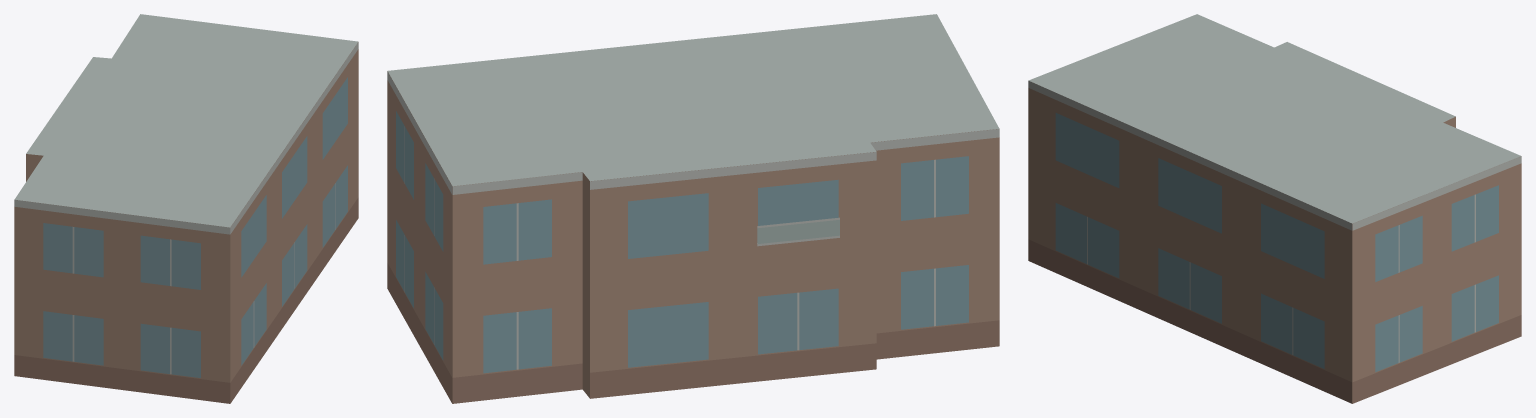
File: survey-upis-32913674.glb
3 views of the same model, side by side, from view 1: azimuth 30°, elevation 25°; view 2: azimuth 150°, elevation 25°; view 3: azimuth 270°, elevation 25° (orthographic). The views are drawn at different scales.
Visible parts, largest first — view 1: survey-upis-32913674.tmp; view 2: survey-upis-32913674.tmp; view 3: survey-upis-32913674.tmp.
Part boxes in pixels (bbox=[...]): survey-upis-32913674.tmp: bbox=[14, 14, 358, 403]; survey-upis-32913674.tmp: bbox=[387, 14, 999, 403]; survey-upis-32913674.tmp: bbox=[1028, 14, 1521, 403].
Size of the model in its own units: 15.22 by 6.1 by 15.14.
